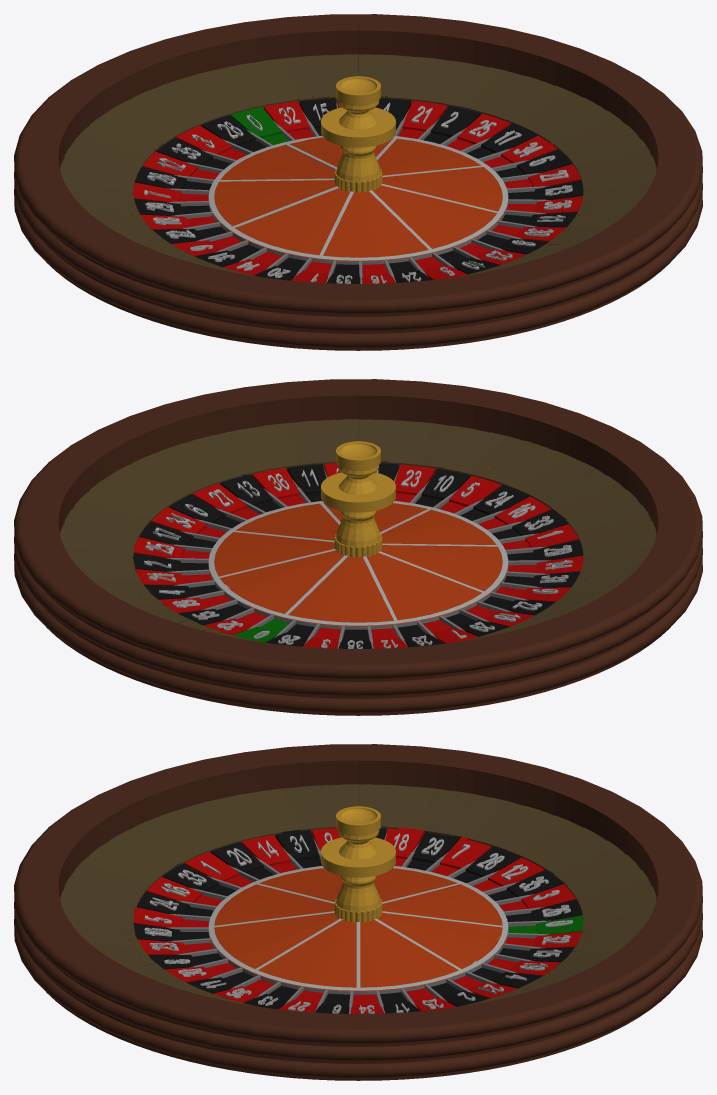
File: EuropeanRoulette_normal.obj
The picture shows the model from 3 angles, top to bottom: view 1: azimuth 30°, elevation 25°; view 2: azimuth 150°, elevation 25°; view 3: azimuth 270°, elevation 25°; orthographic projection.
Visible parts, largest first — view 1: Roulette_Group_0.006; view 2: Roulette_Group_0.006; view 3: Roulette_Group_0.006.
Boxes of the visible parts, left/top/right/bottom form: Roulette_Group_0.006: left=14, top=14, right=702, bottom=350; Roulette_Group_0.006: left=14, top=379, right=702, bottom=715; Roulette_Group_0.006: left=14, top=744, right=702, bottom=1080.
Size of the model in its own units: 9.19 by 1.8 by 9.19.
